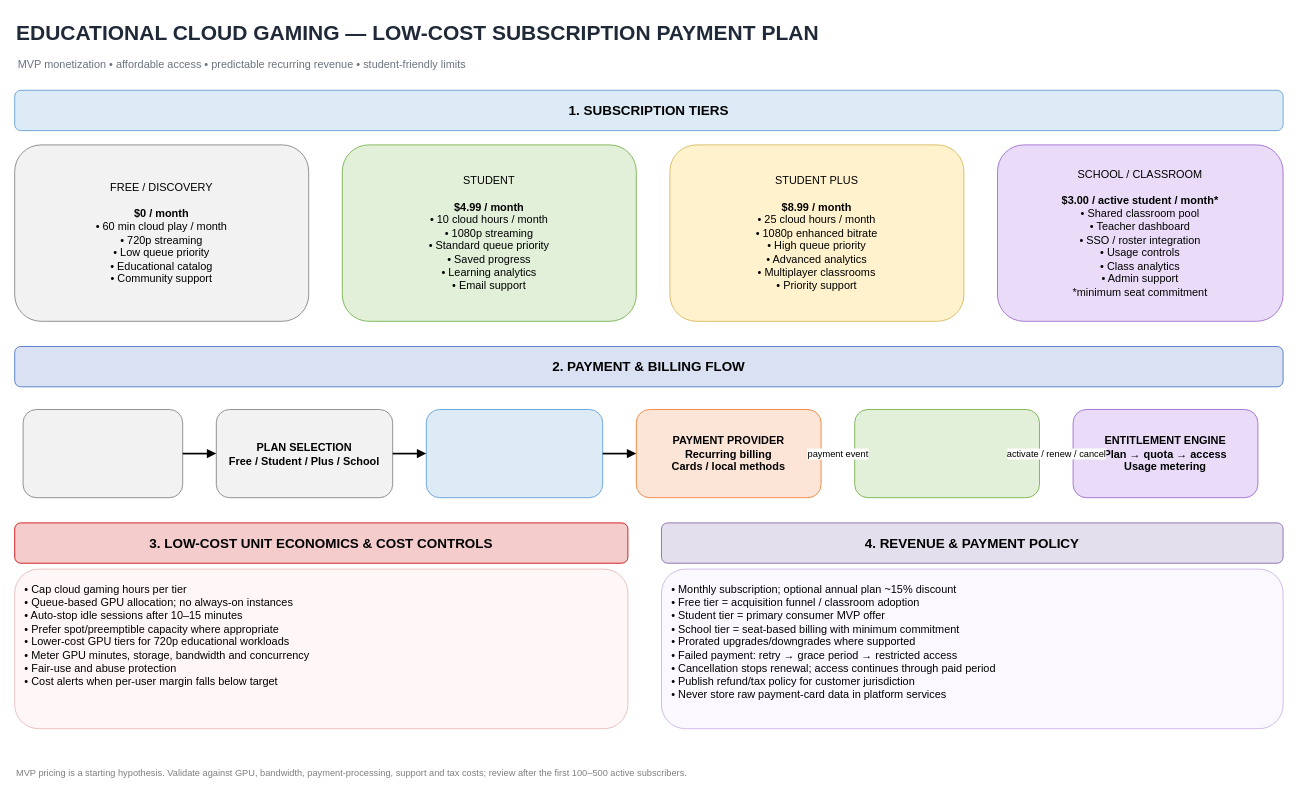
Image size: 1298x806. Some labels were removed from this diagram. Each missing label, with the centre of its shape:
"BILLING SERVICE Webhooks Idempotency + retries" belongs at pixel 947 453.
"CHECKOUT Hosted payment page Minimize PCI scope" belongs at pixel 514 453.
"SIGN-UP Account + role Student / Teacher / School" belongs at pixel 102 453.
